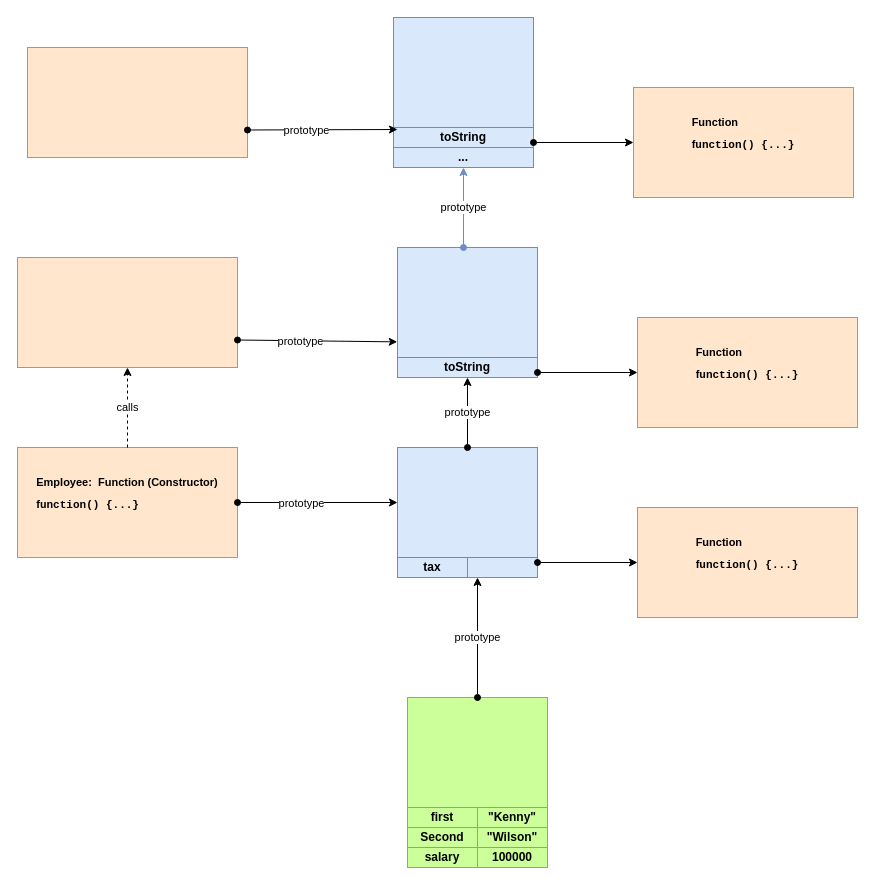
The diagram is 875 pixels wide and 885 high, and some of its shapes have lost their labels. The shapes that lost their labels are listed below. From the top down, each one's centre as x and y in pixels, then its label:
At (463,72): "Object.prototype".
At (137,102): "Object: Function (Constructor) f unction() {...}".
At (127,312): "Person: Function (Constructor) f unction() {...}".
At (467,302): "Person".
At (467,502): "Employee".
At (477,752): "Object".
